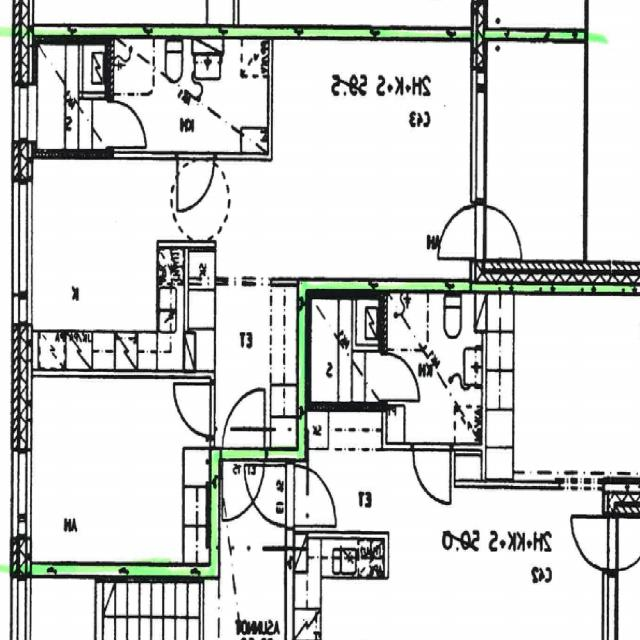door: (223, 448, 265, 524), (223, 388, 265, 462), (472, 202, 525, 257), (434, 202, 487, 257), (179, 150, 215, 212), (174, 384, 216, 435), (105, 97, 147, 146)
